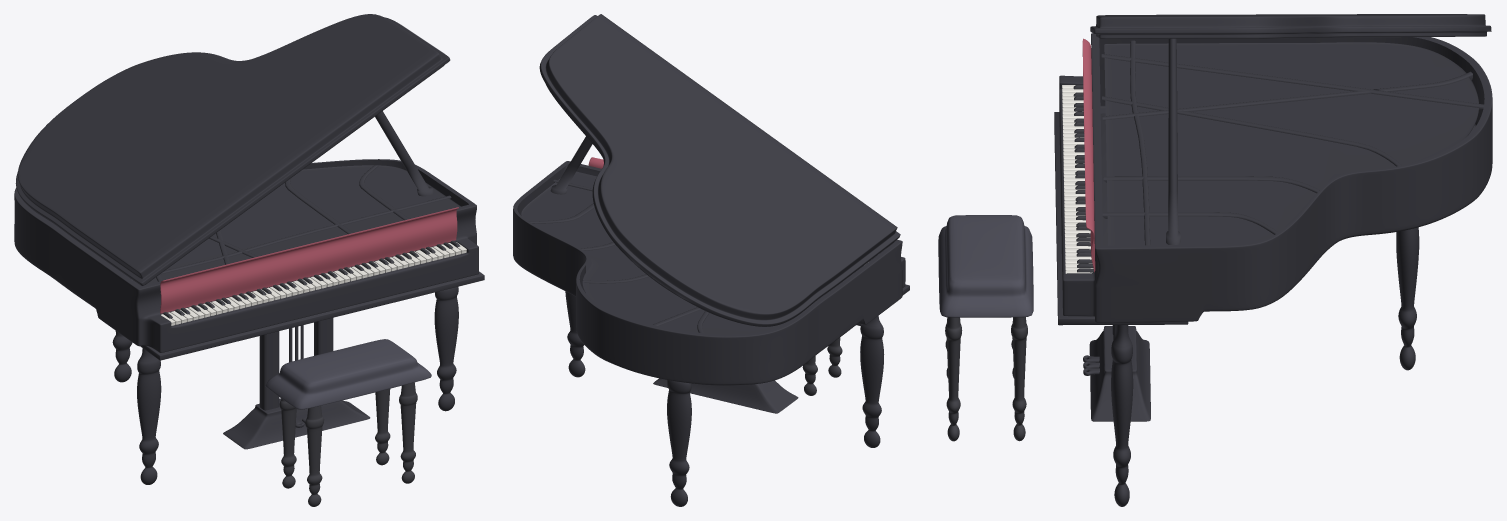
The model's file is piano.glb.
3 renders of one model, left to right at view 1: azimuth 30°, elevation 25°; view 2: azimuth 150°, elevation 25°; view 3: azimuth 270°, elevation 25°, orthographic. The views are drawn at different scales.
Parts seen in each view (by area): view 1: Piano_Body, Piano_Felt, Piano_BenchCushion, Piano_BenchFrame, Piano_Keys, Piano_Sharps; view 2: Piano_Body, Piano_BenchFrame; view 3: Piano_Body, Piano_BenchCushion, Piano_BenchFrame, Piano_Keys, Piano_Felt, Piano_Sharps.
Part boxes in pixels (<box>): Piano_Body: <box>14,14,484,484</box>; Piano_Felt: <box>160,207,458,313</box>; Piano_BenchCushion: <box>265,339,431,409</box>; Piano_BenchFrame: <box>279,382,417,506</box>; Piano_Keys: <box>161,242,466,325</box>; Piano_Sharps: <box>163,240,460,318</box>; Piano_Body: <box>513,14,909,506</box>; Piano_BenchFrame: <box>802,337,842,395</box>; Piano_Body: <box>1054,14,1492,506</box>; Piano_BenchCushion: <box>938,215,1033,317</box>; Piano_BenchFrame: <box>945,317,1027,441</box>; Piano_Keys: <box>1062,85,1093,273</box>; Piano_Felt: <box>1082,38,1095,272</box>; Piano_Sharps: <box>1073,85,1093,272</box>.
Bounding box in the file's own units: 1.82 × 1.86 × 1.95.
